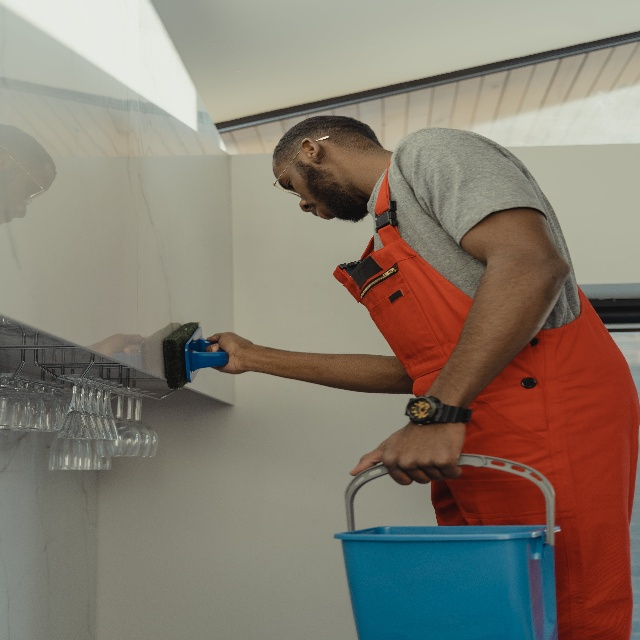Gafas: (273, 134, 329, 198)
Sin_guantes: (349, 416, 466, 486), (206, 331, 251, 376)
